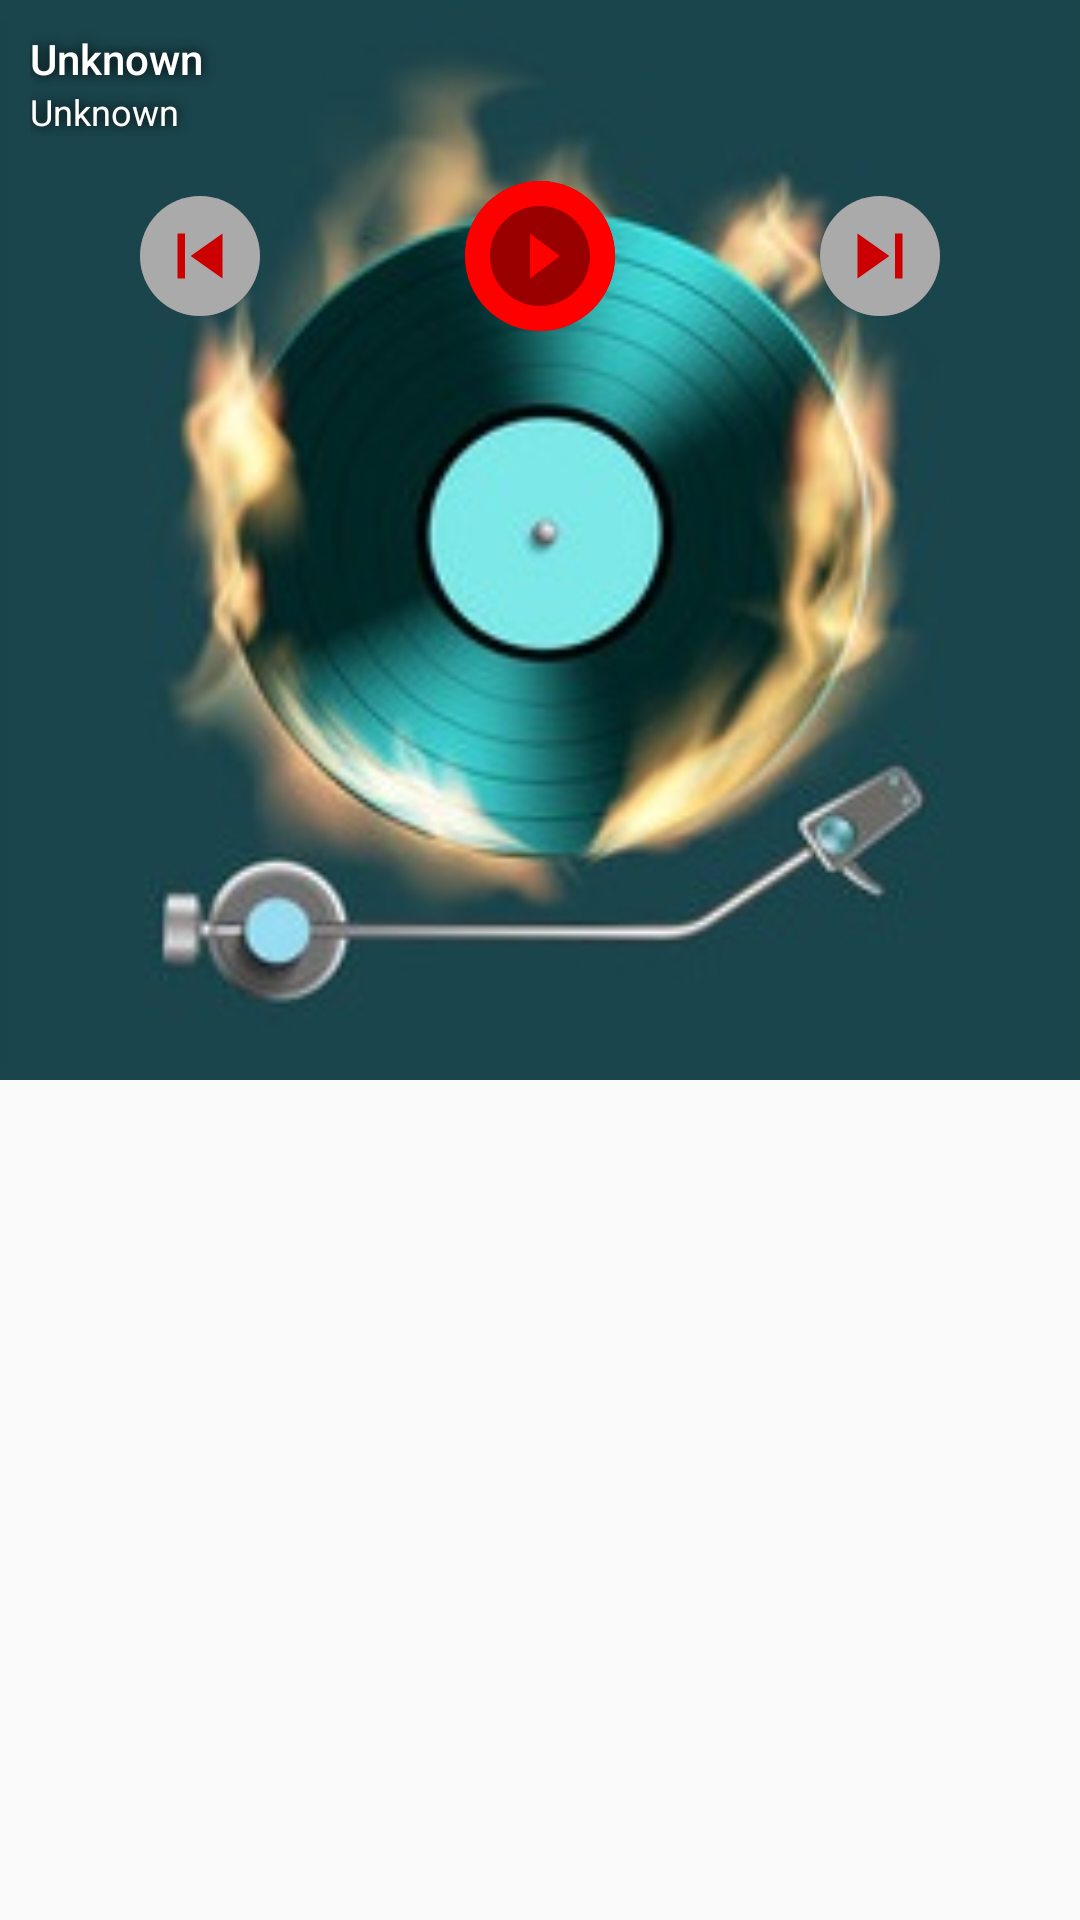

Icon click points for this 1080w x 1920h phone screenshot, format [x,y]:
next: [880,256]
play circle: [540,256]
previous: [200,256]
